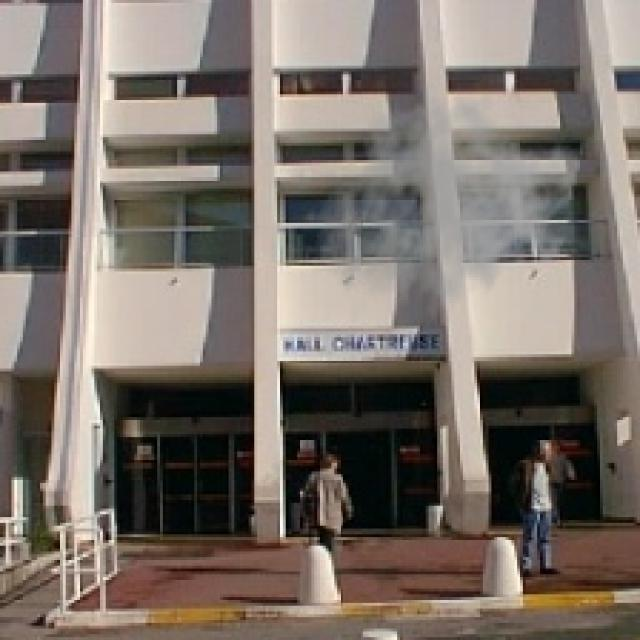smoke: (314, 83, 583, 331)
